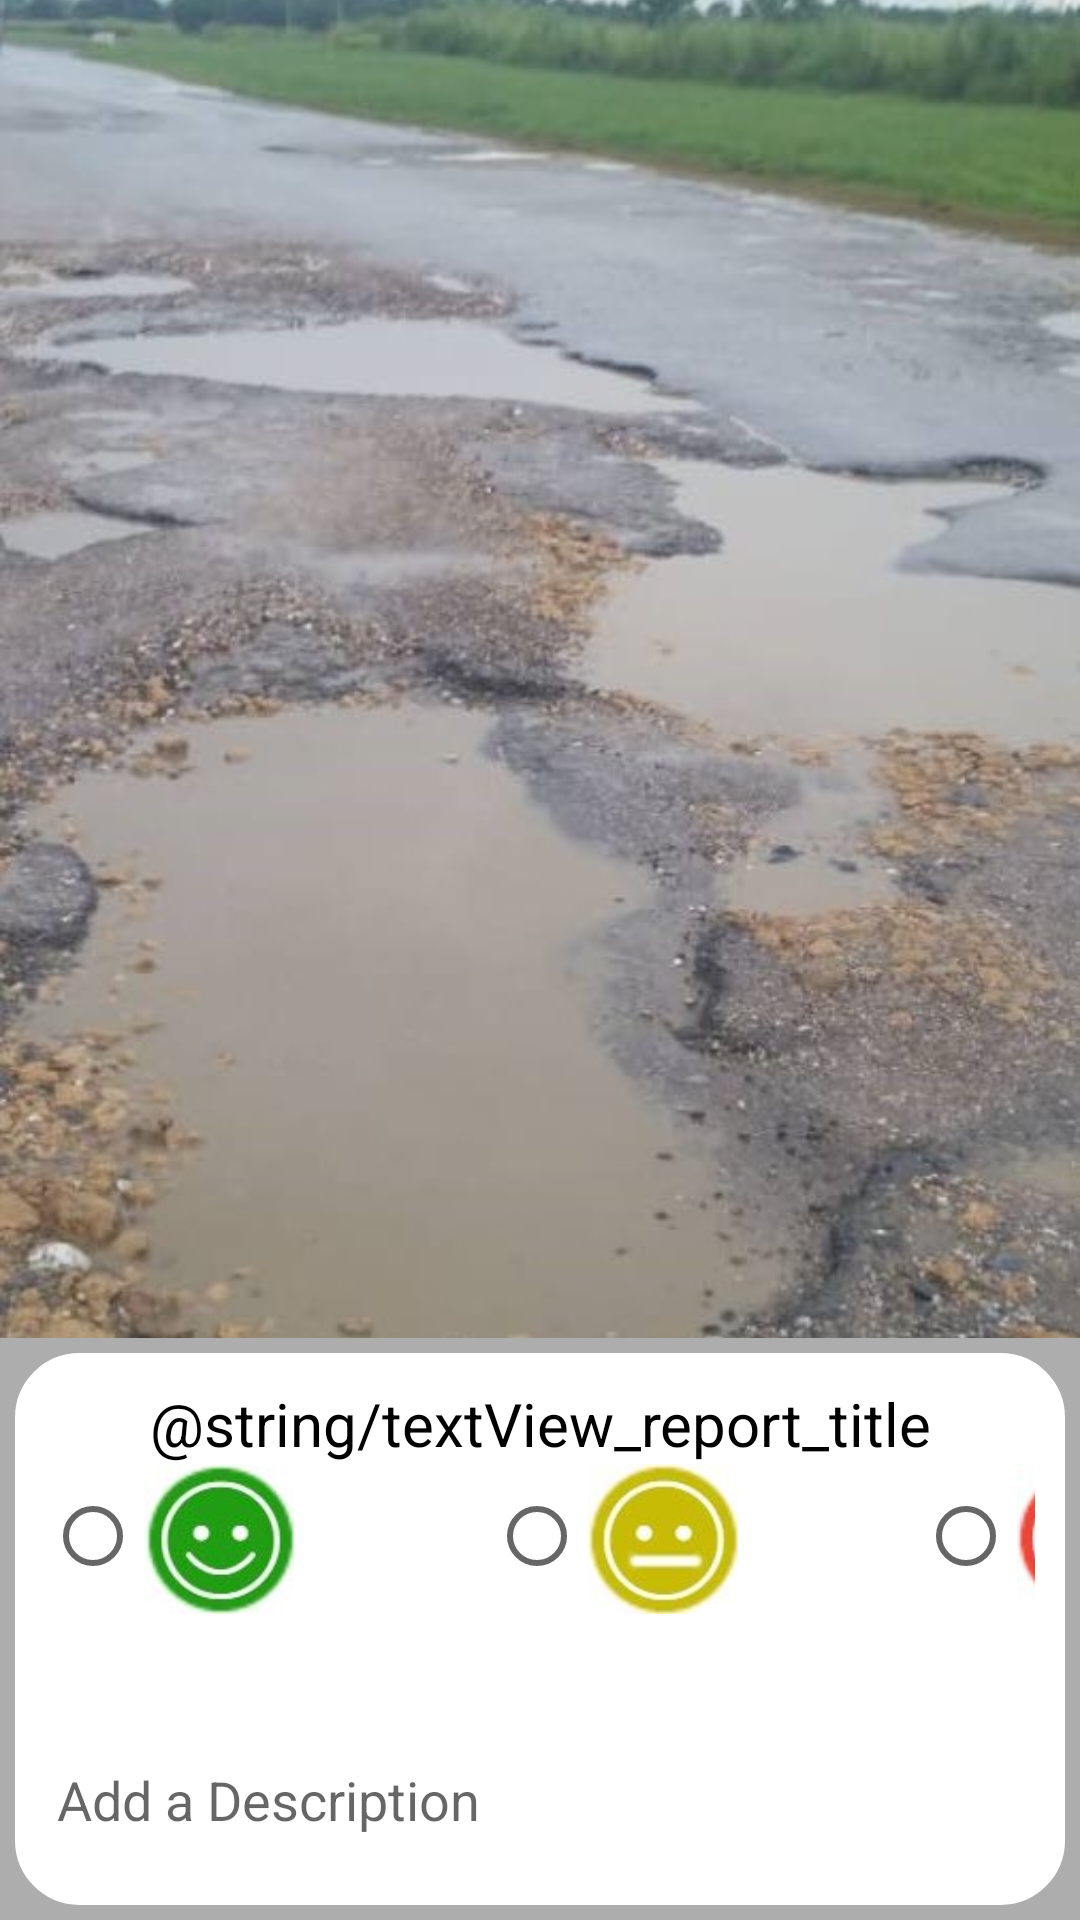

Icons on this 1080x1920 Android screen, each with its box as {"x1": x1, "y1": y1, "x2": x2, "y2": y2}:
smile: {"x1": 147, "y1": 1466, "x2": 294, "y2": 1614}
